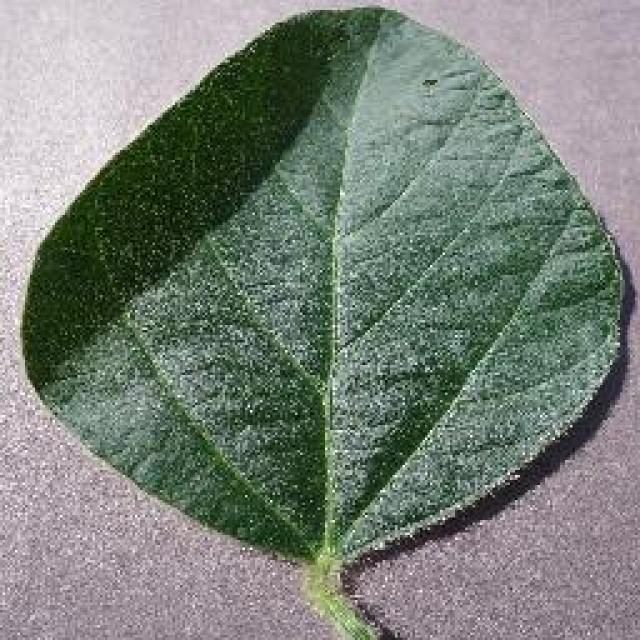Soy_healthy: (54, 47, 602, 541)
